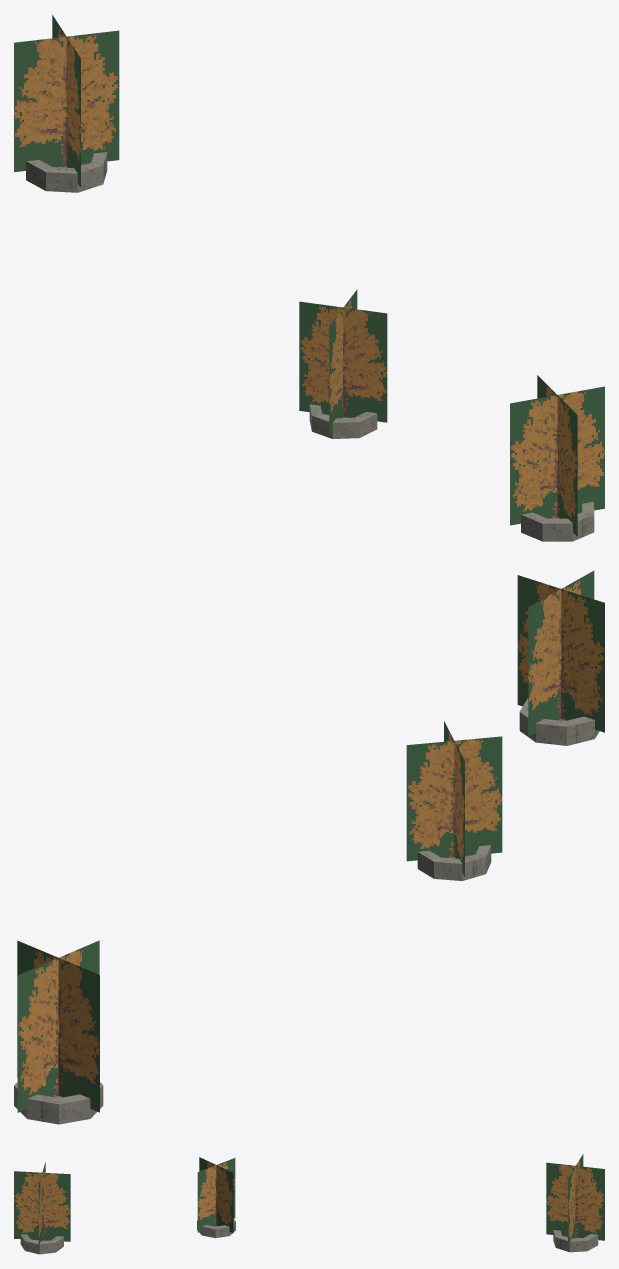
Rendered from procgen-procpain-tree-park-large-xm3z0.obj.
3 renders of one model, top to bottom at view 1: azimuth 30°, elevation 25°; view 2: azimuth 150°, elevation 25°; view 3: azimuth 270°, elevation 25°, orthographic. The views are drawn at different scales.
Bounding box in the file's own units: 7.93 × 7.99 × 55.61.
